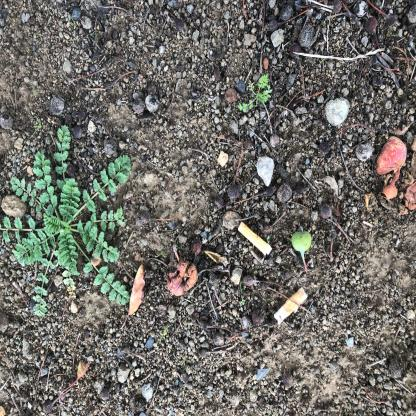trash: (110, 311, 153, 372), (65, 359, 100, 416)
